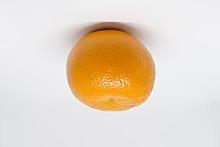orange: (0, 0, 220, 147)
